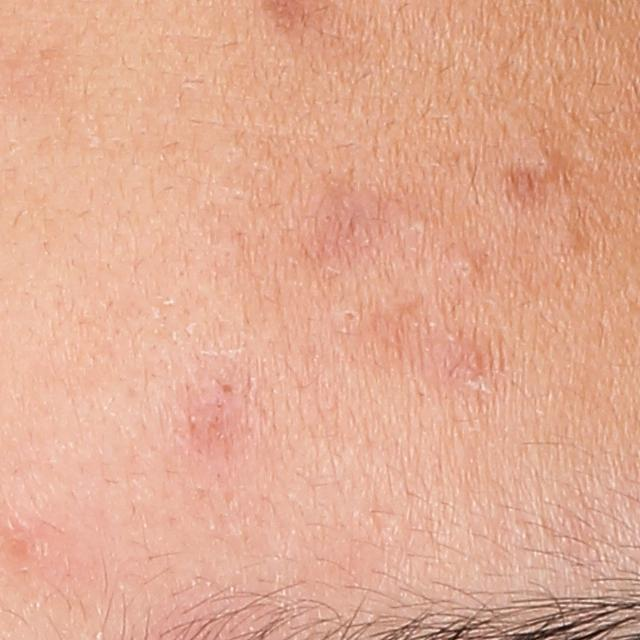comedo: (525, 142, 573, 189), (544, 220, 590, 260), (445, 250, 488, 288), (331, 300, 369, 334)
